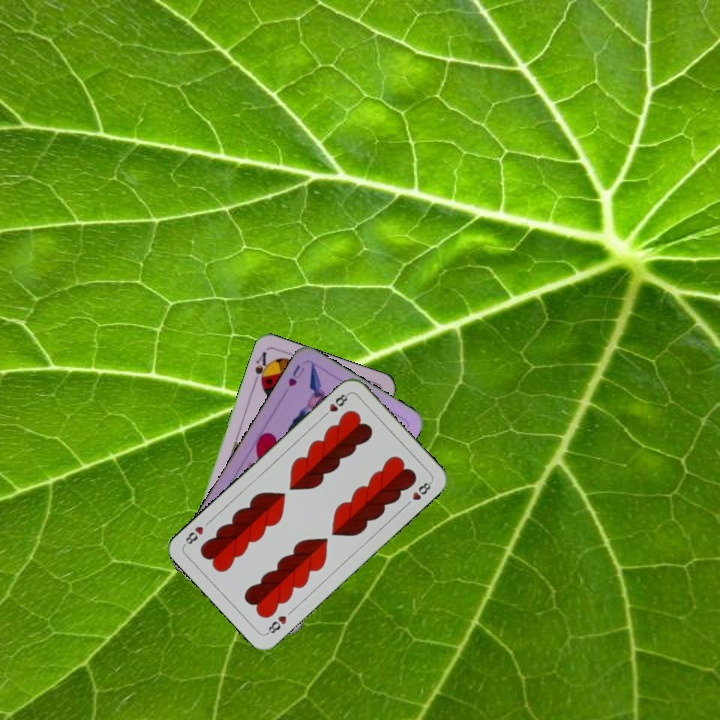H8: (319, 389, 352, 420), (263, 611, 289, 637)
HU: (284, 361, 308, 389)
SA: (250, 347, 273, 388)
